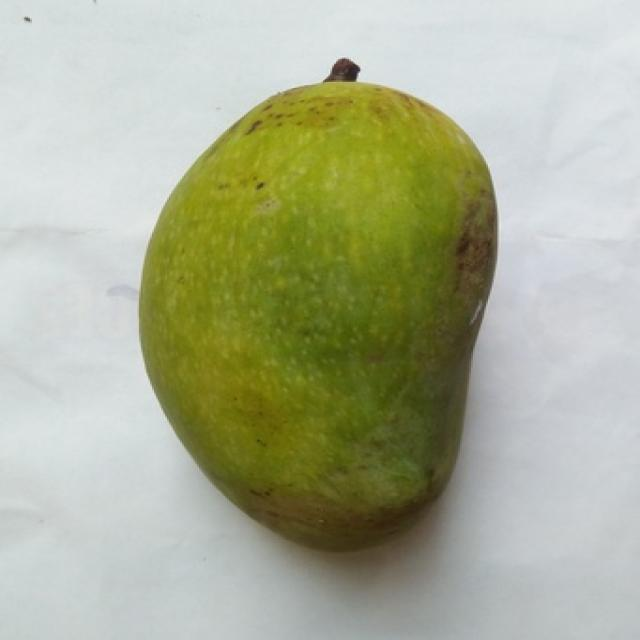Mango: (139, 71, 495, 549)
